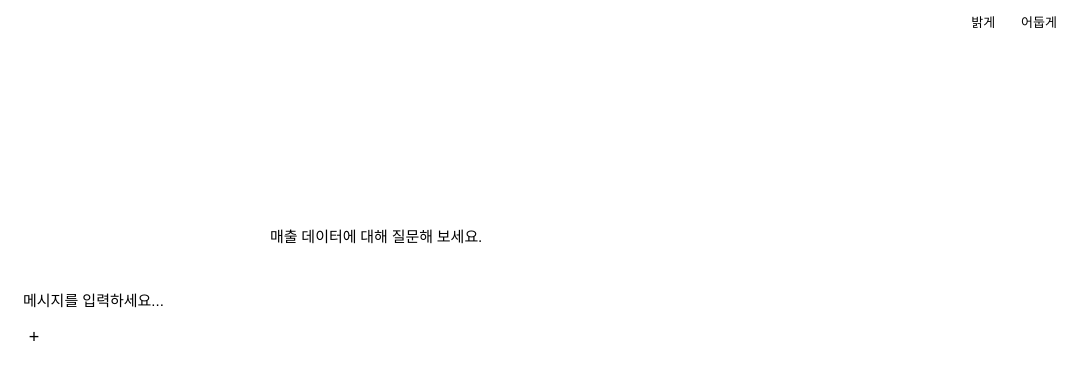
Test: Chat - 이메일 수신자 프리셋 › 프리셋도 직접 입력도 없으면 발송하지 않고 안내 메시지를 표시한다
Type "질문" into the field with placeholder "메시지를 입력하세요..." at (379, 300), box [19, 288, 739, 313]
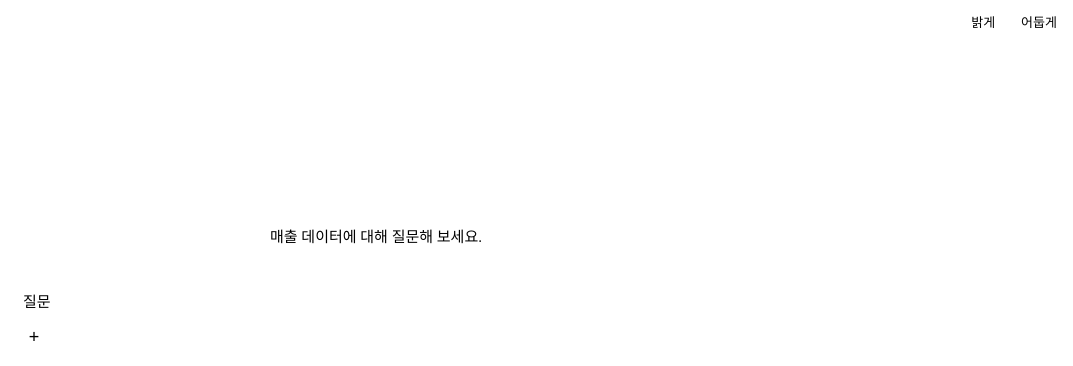
Press Enter in the field with placeholder "메시지를 입력하세요...", box [19, 288, 739, 313]
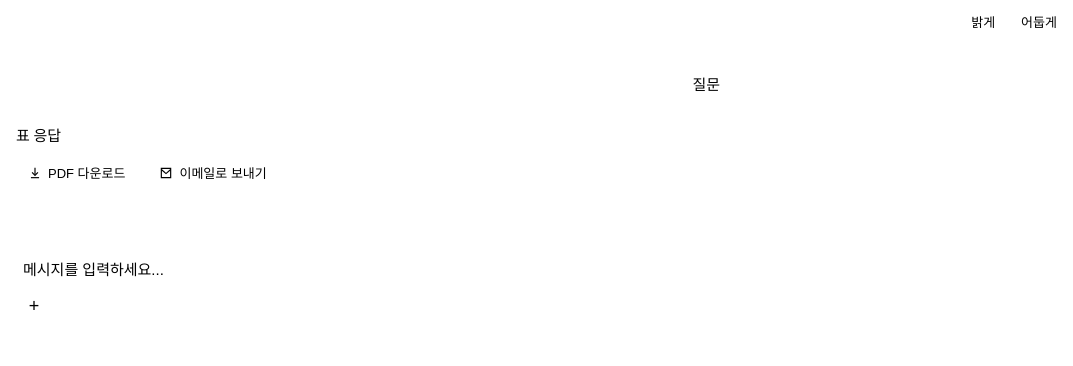
Click the button "이메일로 보내기" at (213, 172), box [148, 158, 279, 187]
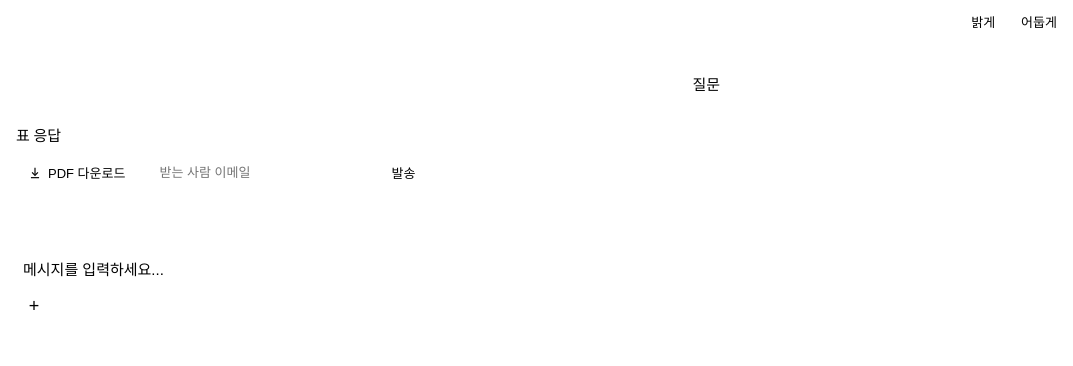
Click the button "발송" at (403, 172), box [380, 158, 427, 187]
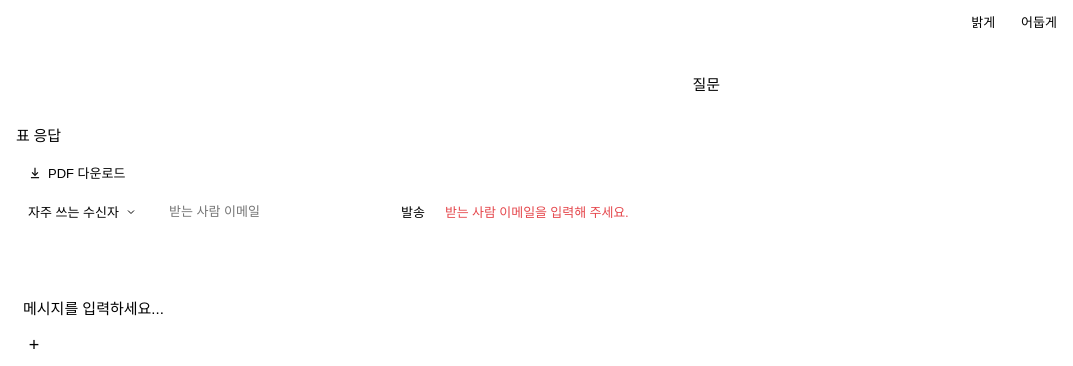
Now the text "받는 사람 이메일을 입력해 주세요." is shown, box [445, 202, 629, 221]
